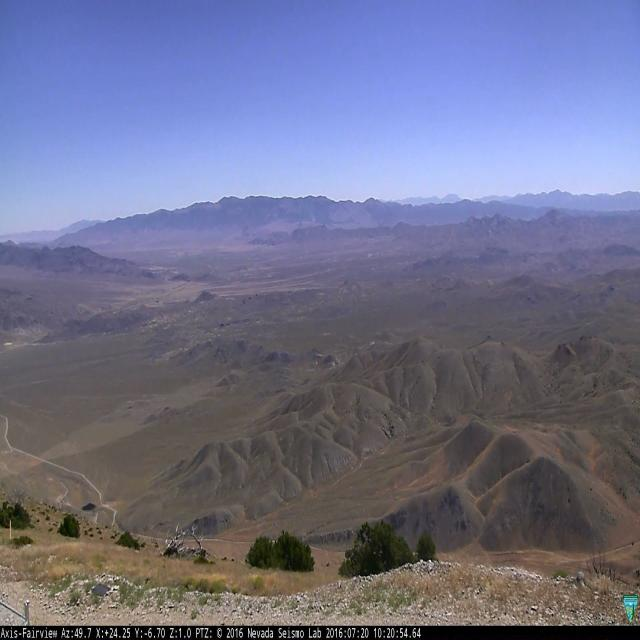smoke: (311, 216, 316, 224)
